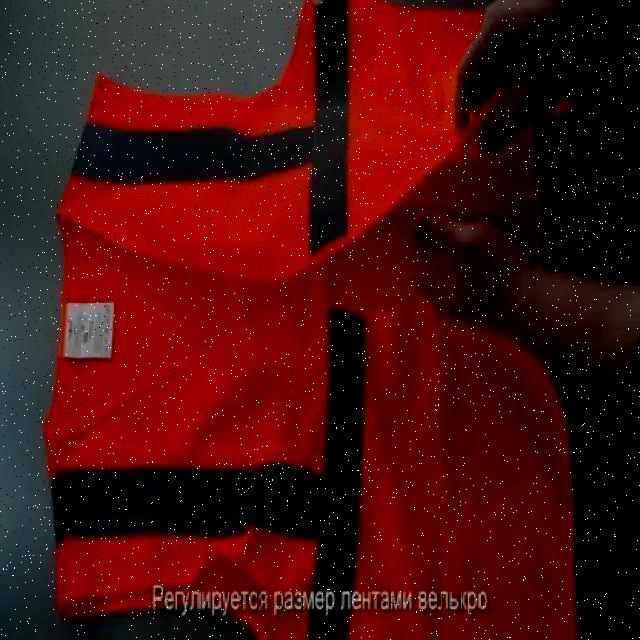Mask: (41, 0, 583, 638)
